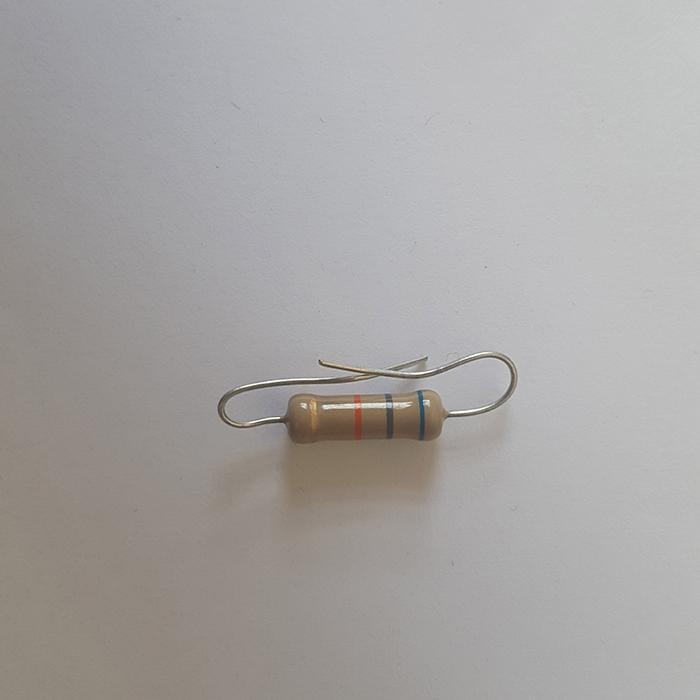resistor: (284, 389, 447, 443)
